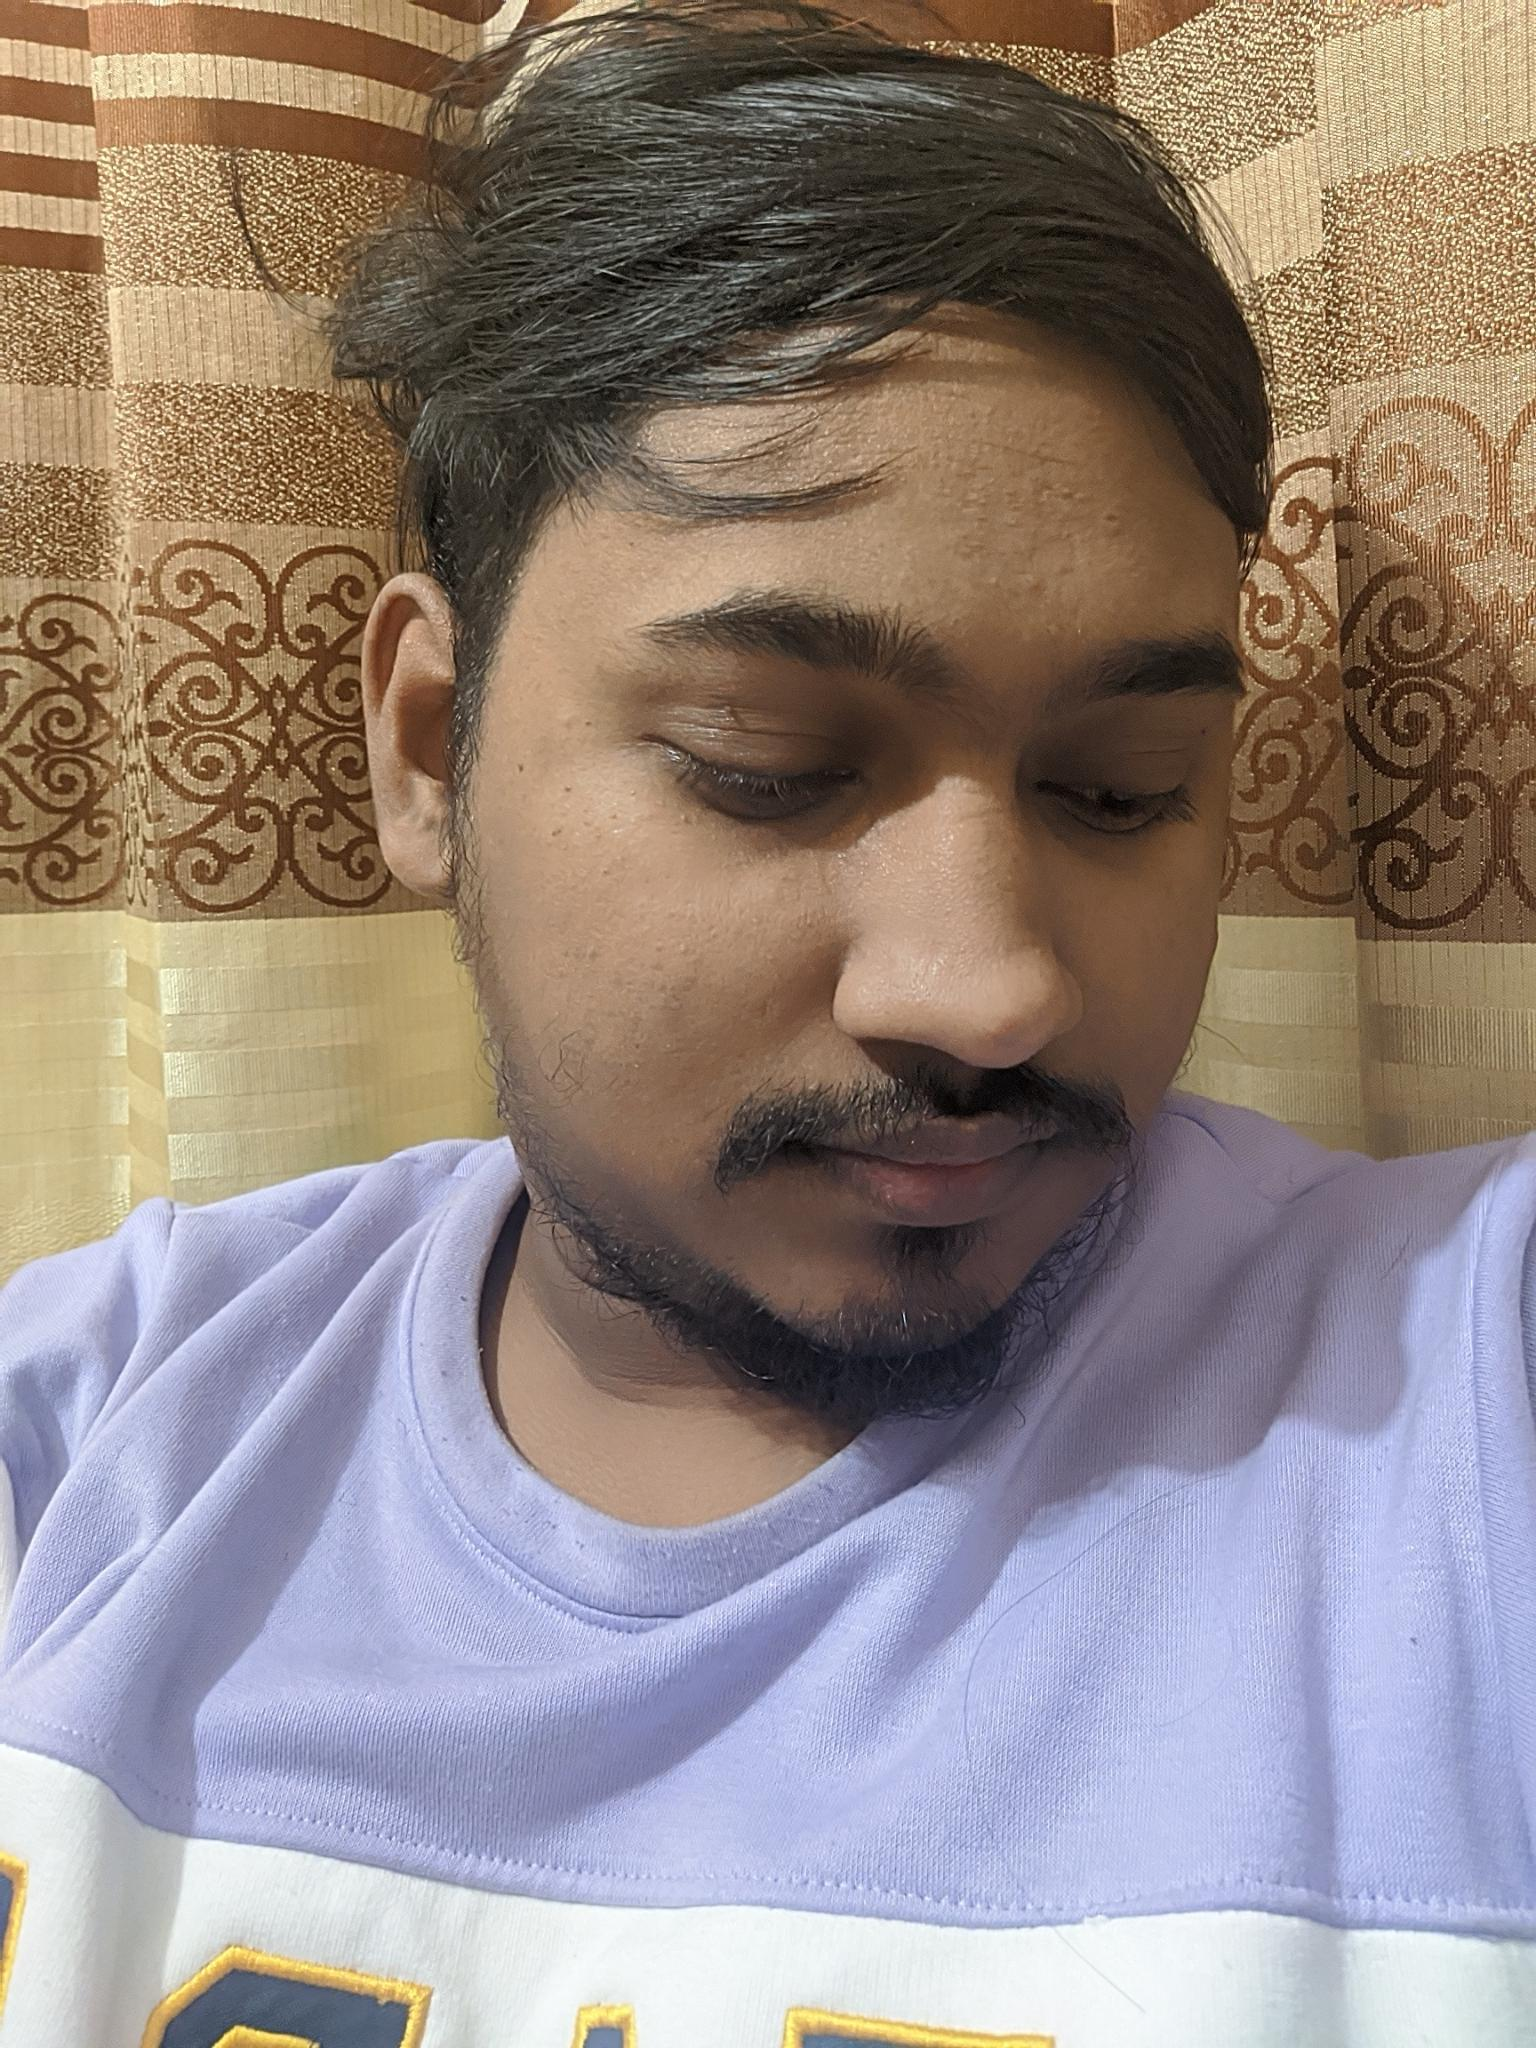Neutral: (561, 460, 1265, 1419)
